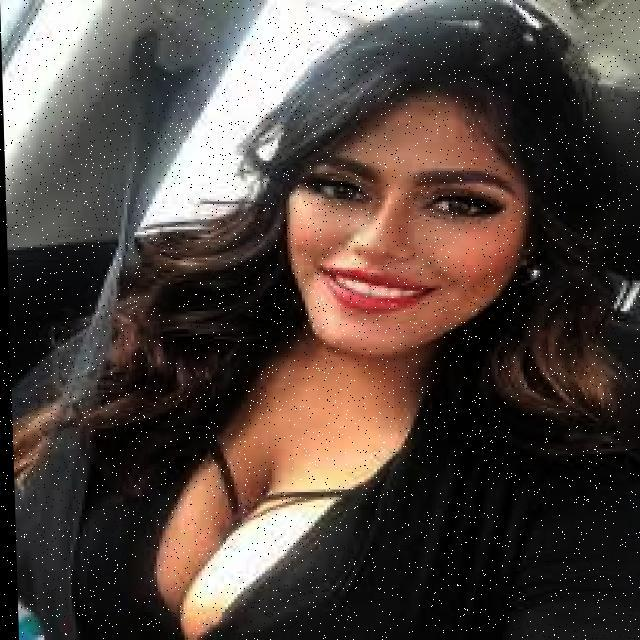seatbelt: (6, 267, 349, 640)
